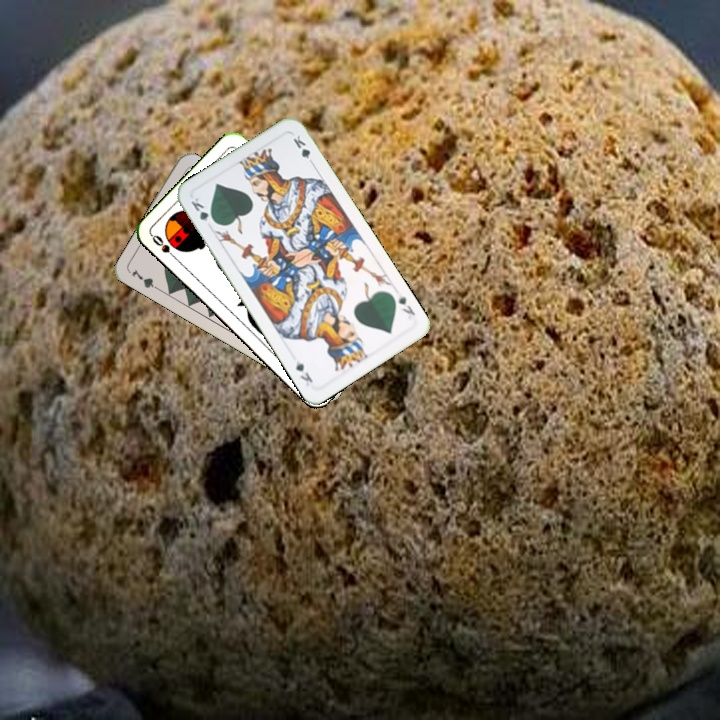G7: (127, 265, 164, 294)
GK: (187, 193, 218, 227), (394, 290, 418, 318)
SO: (148, 231, 181, 263)
